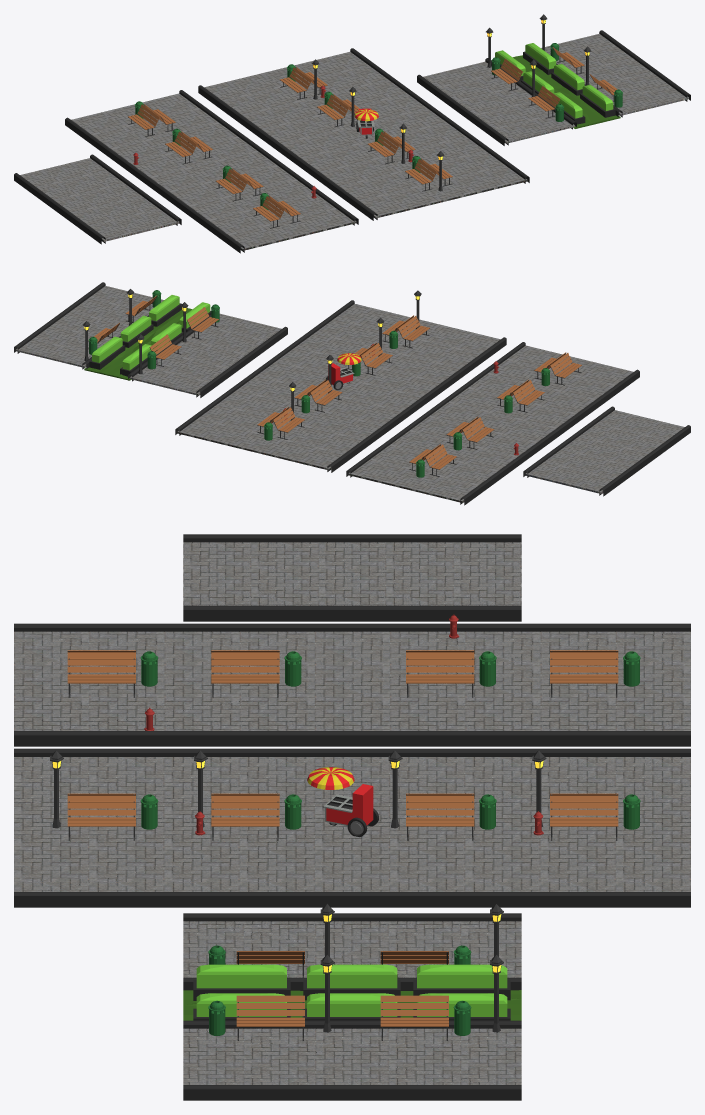
The model's file is street 1.fbx.
3 views of the same model, one above another, from view 1: azimuth 30°, elevation 25°; view 2: azimuth 150°, elevation 25°; view 3: azimuth 270°, elevation 25° (orthographic). The views are drawn at different scales.
Parts seen in each view (by area): view 1: ROAD3, ROAD2, ROAD4, ROAD1, FOLIAGE3, GRASS, FOLIAGE2, FOLIAGE4; view 2: ROAD3, ROAD2, ROAD4, ROAD1, FOLIAGE3, GRASS, FOLIAGE2, FOLIAGE4; view 3: ROAD3, ROAD2, ROAD4, ROAD1, FOLIAGE3, GRASS, FOLIAGE2, FOLIAGE4.
Boxes of the visible parts, left/top/right/bottom form: ROAD3: left=198, top=48, right=529, bottom=220; ROAD2: left=65, top=90, right=358, bottom=253; ROAD4: left=417, top=30, right=690, bottom=145; ROAD1: left=14, top=154, right=181, bottom=244; FOLIAGE3: left=279, top=59, right=452, bottom=191; GRASS: left=495, top=43, right=620, bottom=128; FOLIAGE2: left=128, top=101, right=316, bottom=228; FOLIAGE4: left=486, top=14, right=622, bottom=121; ROAD3: left=175, top=300, right=506, bottom=472; ROAD2: left=346, top=342, right=639, bottom=505; ROAD4: left=14, top=282, right=287, bottom=397; ROAD1: left=523, top=406, right=690, bottom=496; FOLIAGE3: left=257, top=290, right=429, bottom=440; GRASS: left=84, top=295, right=211, bottom=380; FOLIAGE2: left=409, top=352, right=581, bottom=477; FOLIAGE4: left=82, top=289, right=219, bottom=374; ROAD3: left=14, top=748, right=690, bottom=907; ROAD2: left=14, top=623, right=690, bottom=746; ROAD4: left=183, top=913, right=521, bottom=1100; ROAD1: left=183, top=534, right=521, bottom=621; FOLIAGE3: left=50, top=750, right=640, bottom=840; GRASS: left=183, top=964, right=521, bottom=1020; FOLIAGE2: left=67, top=614, right=640, bottom=730; FOLIAGE4: left=208, top=904, right=503, bottom=1040.
Size of the model in its own units: 1550 by 110 by 800.
